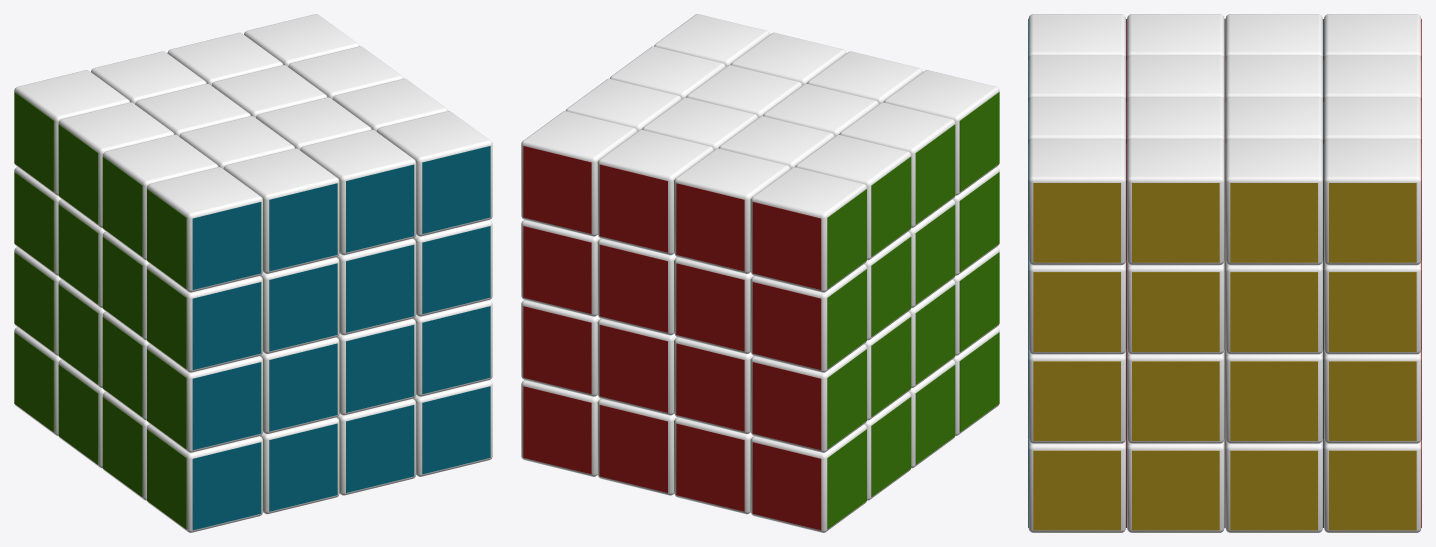
Rendered from magicube.obj.
The picture shows the model from 3 angles, left to right: view 1: azimuth 30°, elevation 25°; view 2: azimuth 150°, elevation 25°; view 3: azimuth 270°, elevation 25°; orthographic projection. The views are drawn at different scales.
Visible parts, largest first — view 1: Box005, Box003, Box009, Box013, Box053, Box021, Box025, Box029, Box045, Box049, Box061, Box017 (+57 smaller); view 2: Box195, Box199, Box203, Box207, Box215, Box223, Box243, Box247, Box219, Box239, Box255, Box211 (+57 smaller); view 3: Box050, Box114, Box178, Box242, Box054, Box058, Box062, Box118, Box122, Box126, Box182, Box186 (+32 smaller).
Part boxes in pixels (x1,y1,x2,y2): Box005: (192,362,261,450); Box003: (192,442,261,530); Box009: (192,282,261,369); Box013: (192,202,261,289); Box053: (422,306,490,394); Box021: (269,343,337,431); Box025: (269,263,337,351); Box029: (269,183,337,271); Box045: (346,164,414,252); Box049: (422,386,490,474); Box061: (422,146,490,233); Box017: (269,423,337,511); Box195: (752,442,821,530); Box199: (752,362,821,449); Box203: (752,282,821,369); Box207: (752,202,821,289); Box215: (676,343,744,431); Box223: (676,183,744,271); Box243: (523,386,591,474); Box247: (523,306,591,394); Box219: (676,263,744,351); Box239: (599,164,667,252); Box255: (523,146,591,233); Box211: (676,423,744,511); Box050: (1033,450,1120,530); Box114: (1132,450,1219,530); Box178: (1230,450,1317,530); Box242: (1329,450,1416,530); Box054: (1033,361,1120,440); Box058: (1033,272,1120,351); Box062: (1033,183,1120,262); Box118: (1132,361,1219,440); Box122: (1132,272,1219,351); Box126: (1132,183,1219,262); Box182: (1230,361,1317,440); Box186: (1230,272,1317,351).
Bounding box in the file's own units: 3.18 × 3.17 × 3.18.
